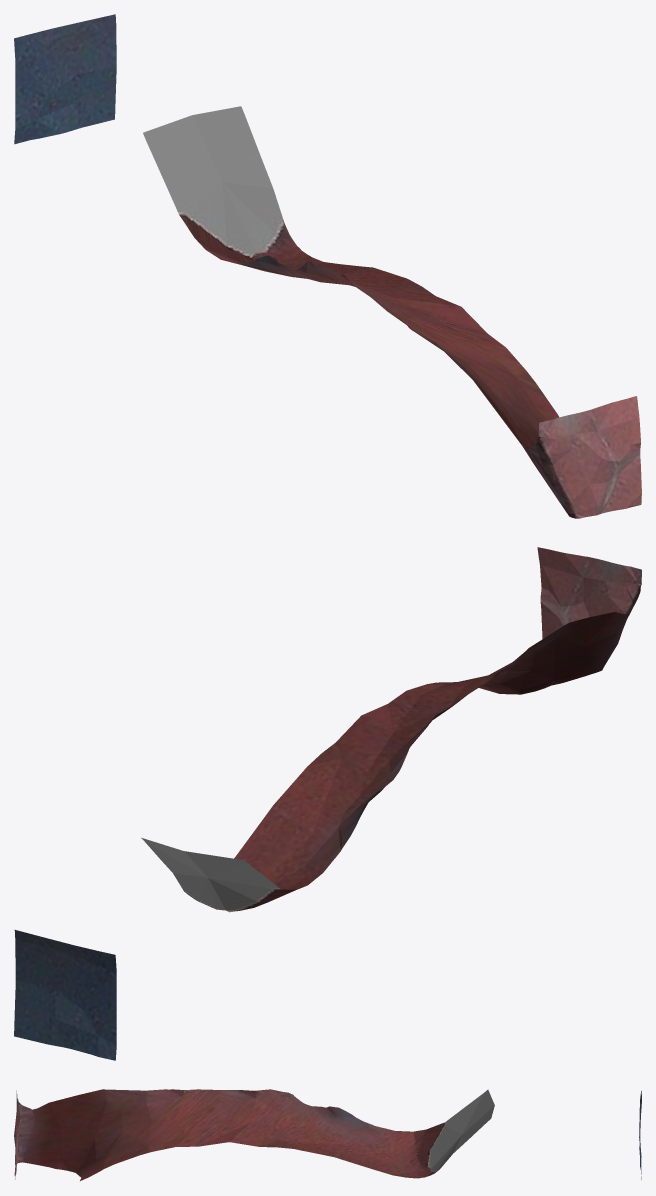
Rendered from Tile_+001_+006_L24_0032310.obj.
The picture shows the model from 3 angles, top to bottom: view 1: azimuth 30°, elevation 25°; view 2: azimuth 150°, elevation 25°; view 3: azimuth 270°, elevation 25°; orthographic projection. The views are drawn at different scales.
Bounding box in the file's own units: 0.9531 × 0.9531 × 8.62.
Materials: 1 (1 with a texture image).
